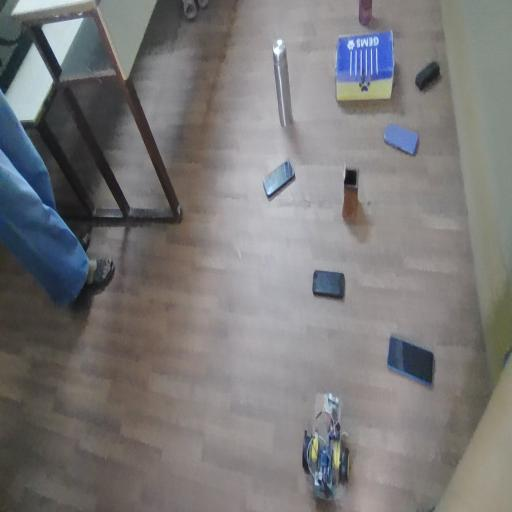car: (302, 374, 349, 484)
